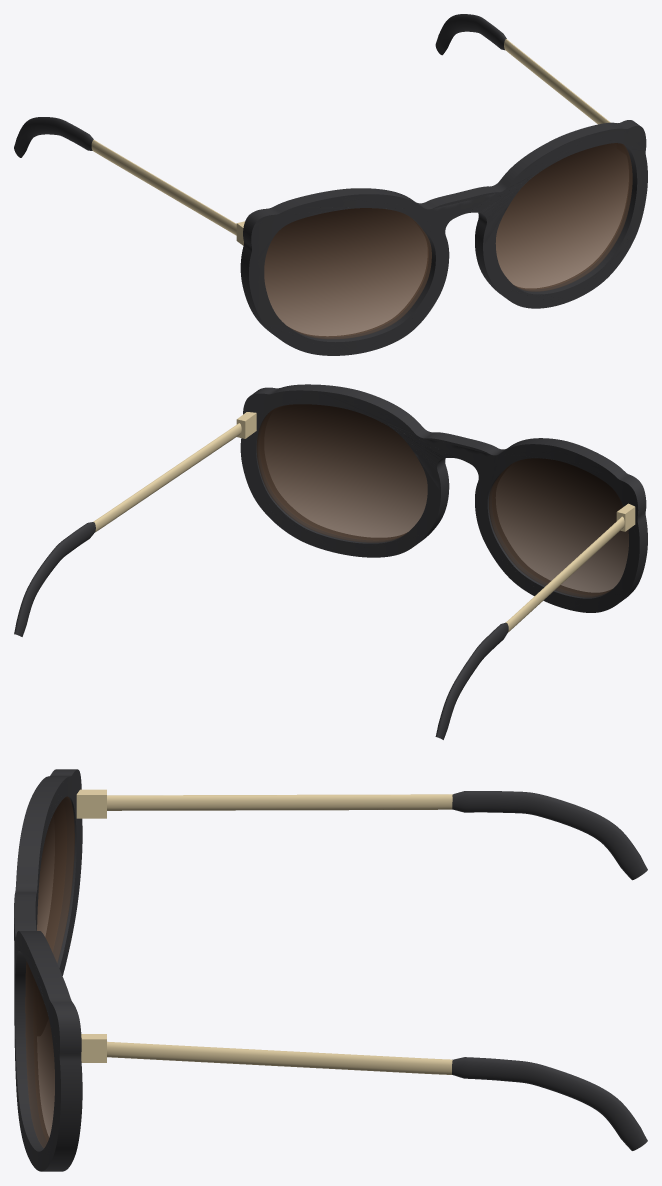
Rendered from RadianceNEW.glb.
The picture shows the model from 3 angles, top to bottom: view 1: azimuth 30°, elevation 25°; view 2: azimuth 150°, elevation 25°; view 3: azimuth 270°, elevation 25°; orthographic projection. The views are drawn at different scales.
Visible parts, largest first — view 1: Front_Acetate, Lens_L, Lens_R, Temples_Gold, EarTip_L, EarTip_R; view 2: Front_Acetate, Lens_R, Lens_L, Temples_Gold, EarTip_R, EarTip_L; view 3: Front_Acetate, Temples_Gold, EarTip_L, EarTip_R, Lens_L, Lens_R.
Boxes of the visible parts, <box> form: Front_Acetate: <box>240,120,647,355</box>; Lens_L: <box>264,208,431,339</box>; Lens_R: <box>495,143,632,291</box>; Temples_Gold: <box>91,39,610,245</box>; EarTip_L: <box>14,117,93,157</box>; EarTip_R: <box>435,14,506,55</box>; Front_Acetate: <box>240,384,647,612</box>; Lens_R: <box>256,404,427,542</box>; Lens_L: <box>489,458,628,597</box>; Temples_Gold: <box>93,412,635,632</box>; EarTip_R: <box>14,522,95,636</box>; EarTip_L: <box>435,622,508,739</box>; Front_Acetate: <box>14,769,82,1171</box>; Temples_Gold: <box>76,789,452,1074</box>; EarTip_L: <box>452,791,647,880</box>; EarTip_R: <box>452,1057,647,1150</box>; Lens_L: <box>37,796,74,962</box>; Lens_R: <box>25,961,54,1147</box>.
Size of the model in its own units: 0.1511 by 0.054 by 0.1469.
4 materials, 1 textured.
